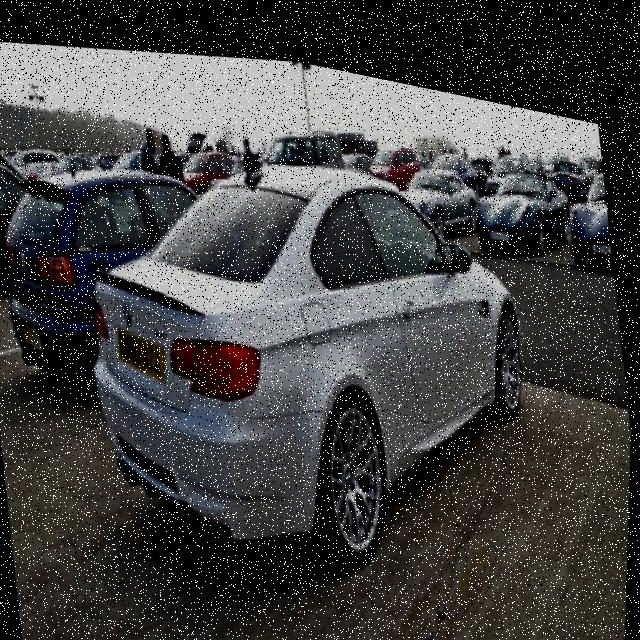license_plate: (116, 318, 170, 381), (22, 324, 43, 346)
